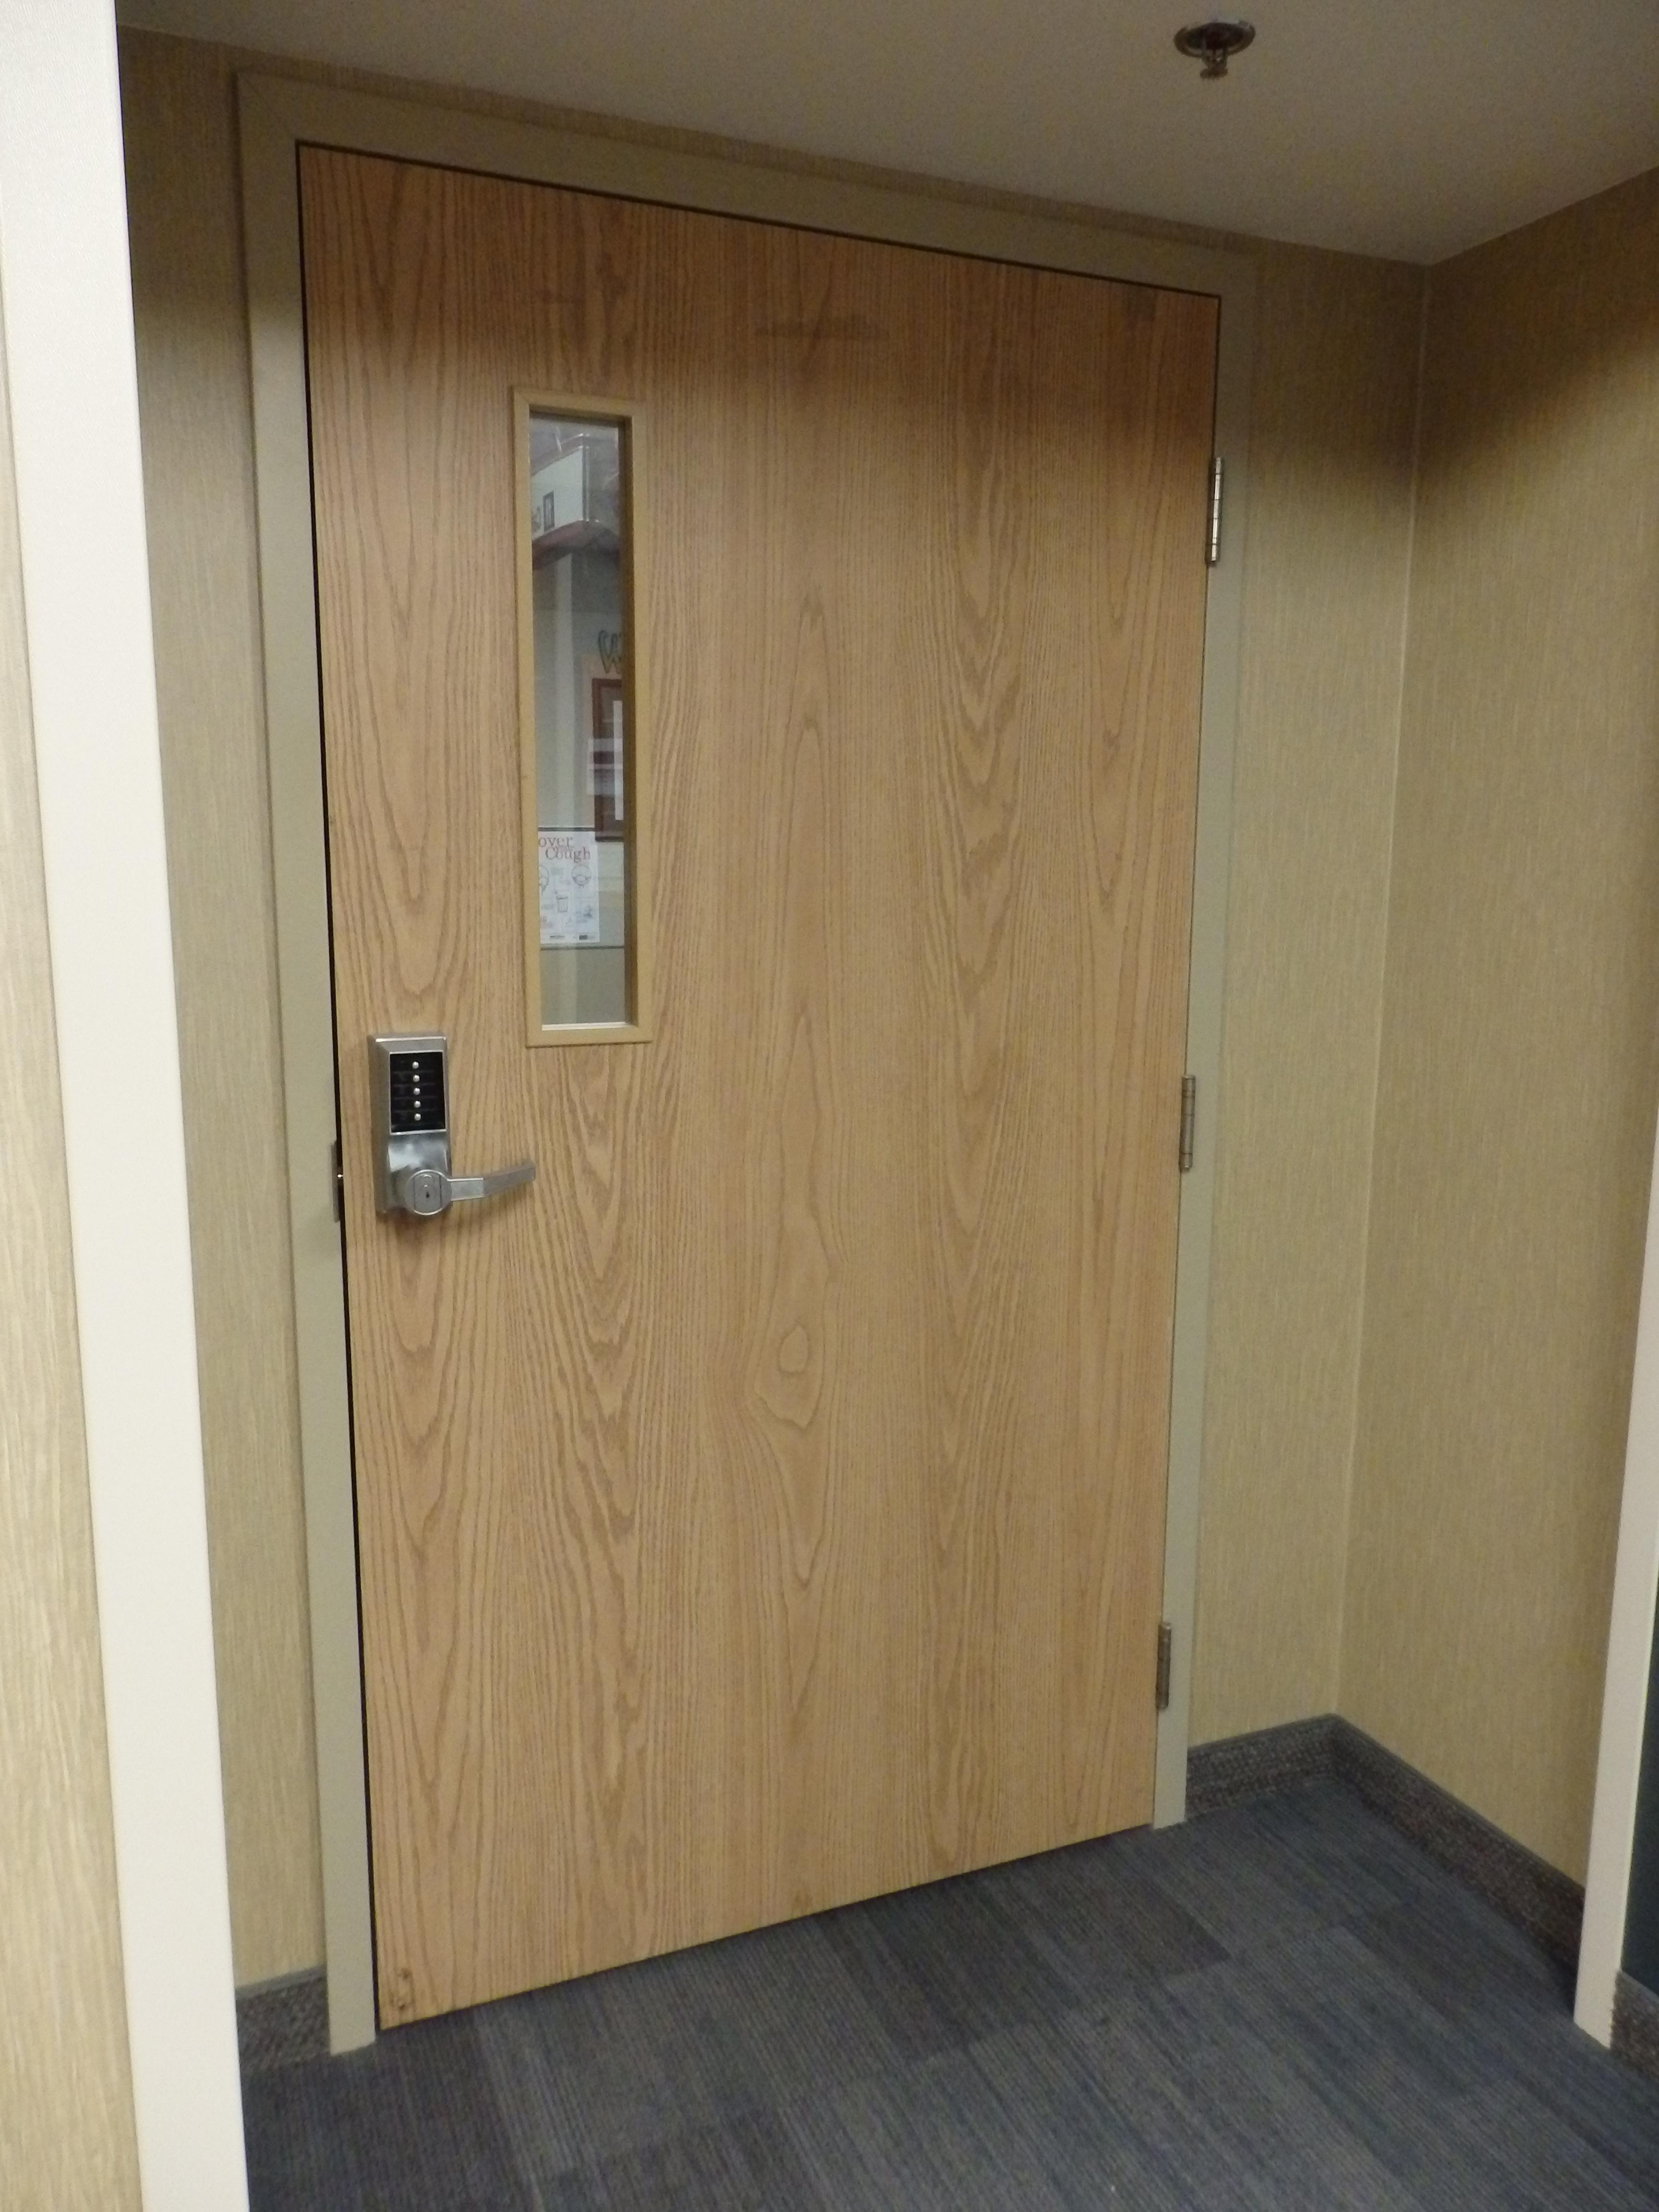door: (239, 77, 1256, 2055)
